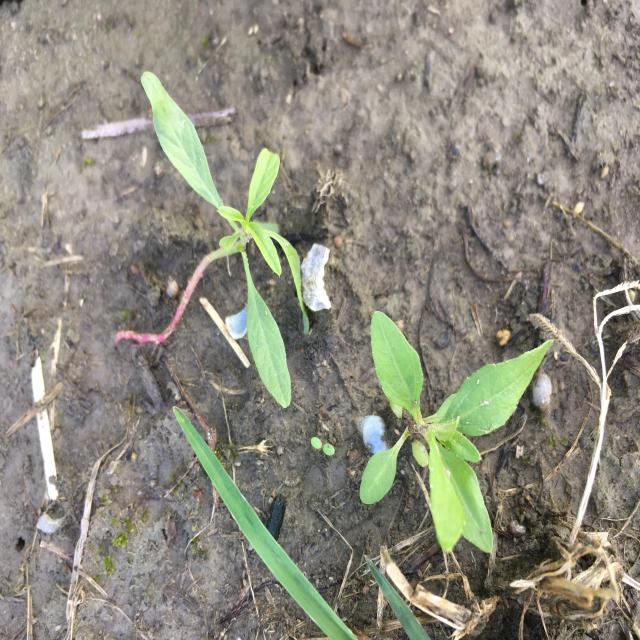Eclipta: (358, 310, 555, 558)
Waterhemp: (106, 70, 311, 410)
